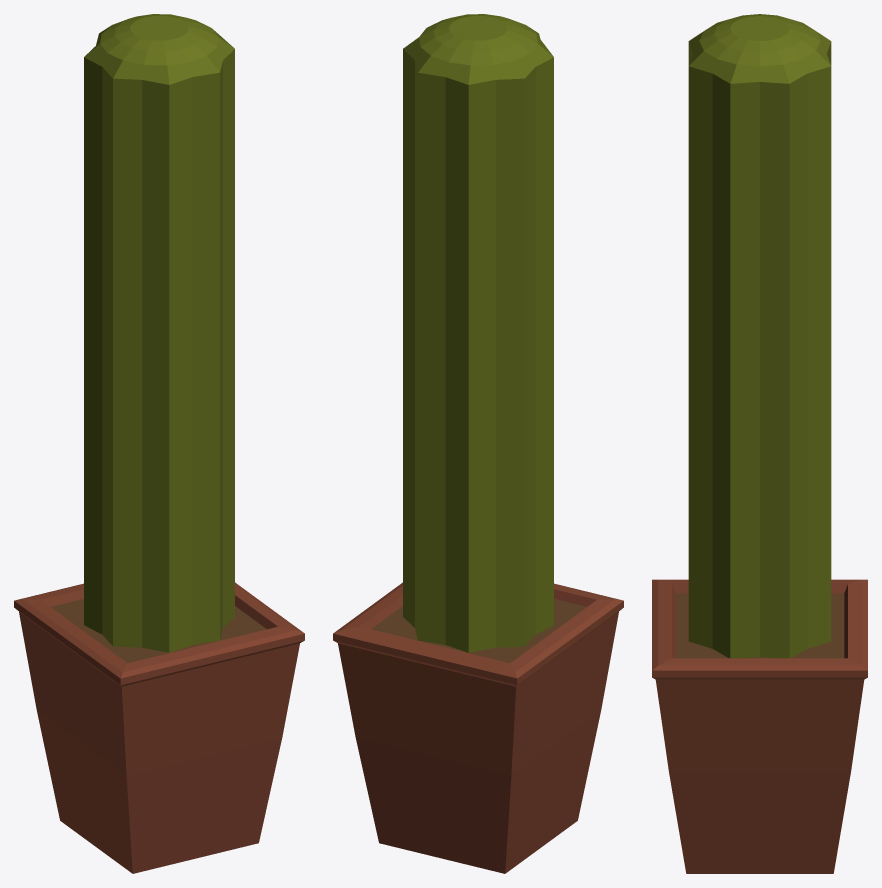
Rendered from cactus 1.fbx.
3 renders of one model, left to right at view 1: azimuth 30°, elevation 25°; view 2: azimuth 150°, elevation 25°; view 3: azimuth 270°, elevation 25°, orthographic.
Visible parts, largest first — view 1: Cactus, Pot; view 2: Cactus, Pot; view 3: Cactus, Pot.
Part boxes in pixels (box(x1,y1,x2,y2)): Cactus: box(84, 14, 234, 652); Pot: box(14, 582, 304, 873); Cactus: box(403, 14, 553, 652); Pot: box(333, 582, 623, 873); Cactus: box(688, 14, 831, 658); Pot: box(652, 579, 867, 873).
Bounding box in the file's own units: 0.3192 × 1.33 × 0.3192.
